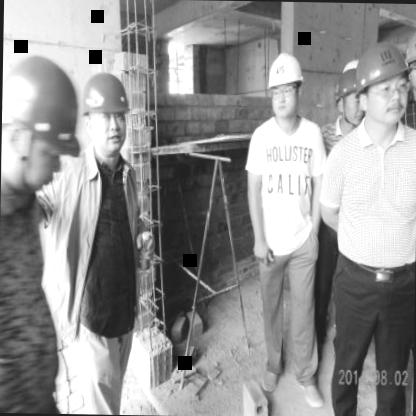helmet: (0, 51, 84, 202), (81, 66, 132, 165), (352, 40, 414, 121), (264, 52, 305, 124), (334, 68, 370, 127), (401, 22, 416, 94)
